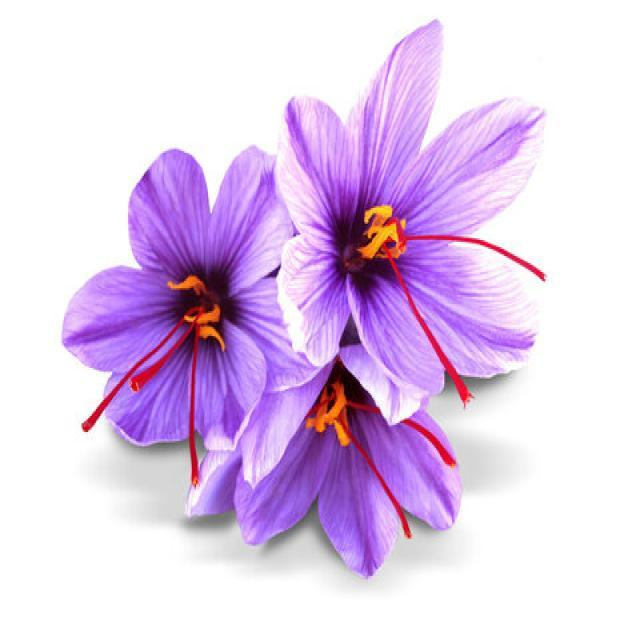Flower: (252, 67, 532, 349), (85, 163, 318, 441), (200, 363, 488, 546)
stigma: (383, 248, 475, 410), (77, 311, 191, 438), (337, 420, 417, 543), (348, 400, 462, 471), (406, 232, 554, 285), (126, 324, 197, 396), (185, 322, 205, 494)
